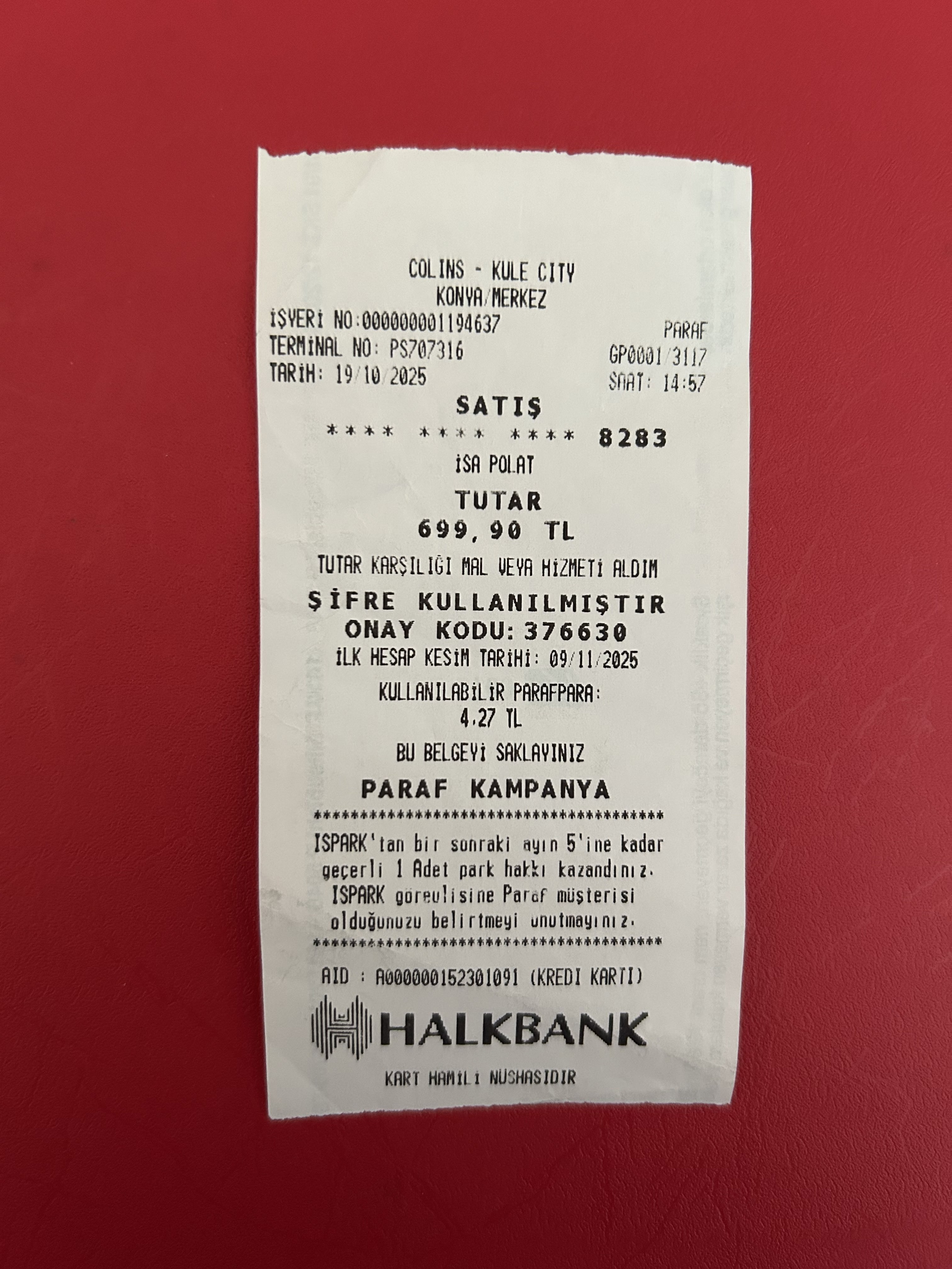date: (326, 360, 438, 392)
price: (406, 509, 588, 553)
workplace: (384, 244, 595, 314)
